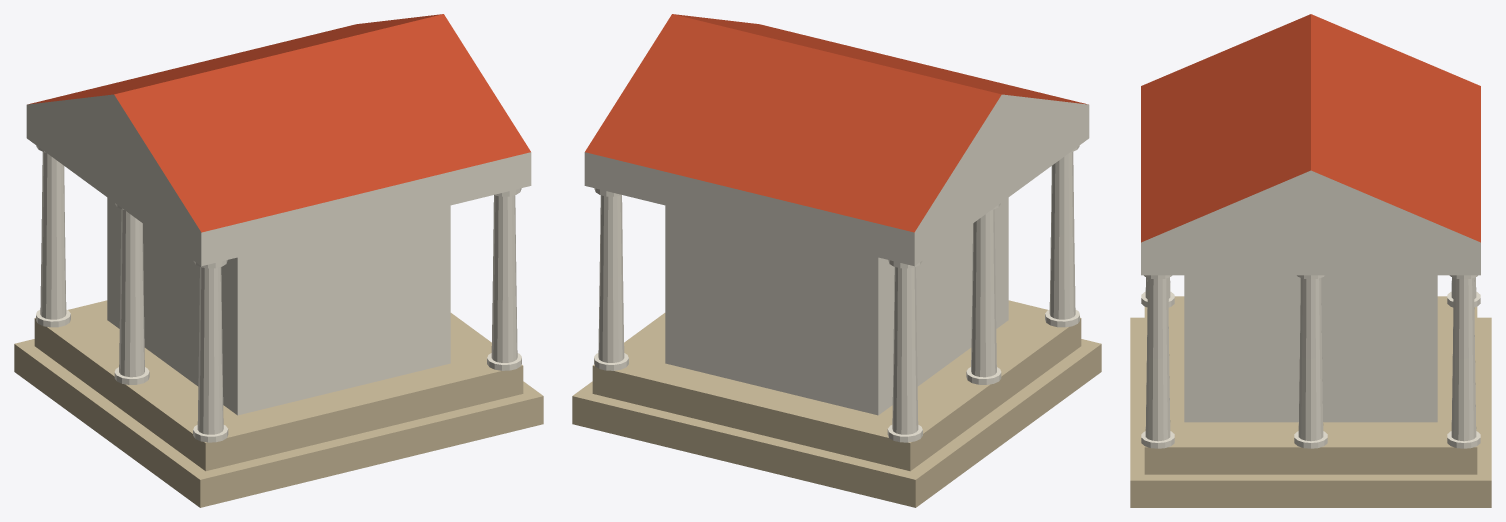
File: building_shrine.fbx
3 views of the same model, side by side, from view 1: azimuth 30°, elevation 25°; view 2: azimuth 150°, elevation 25°; view 3: azimuth 270°, elevation 25° (orthographic). The views are drawn at different scales.
Parts seen in each view (by area): view 1: building_shrine; view 2: building_shrine; view 3: building_shrine.
Boxes of the visible parts, box(x1,y1,x2,y2) form: building_shrine: box(14, 14, 543, 507); building_shrine: box(572, 14, 1101, 507); building_shrine: box(1130, 14, 1491, 507).
Bounding box in the file's own units: 32 × 30.6 × 30.
